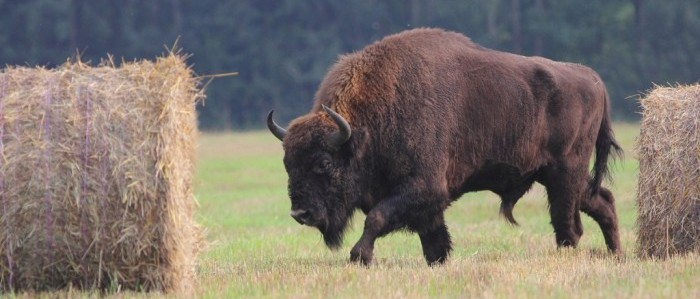zubr: (245, 22, 664, 287)
